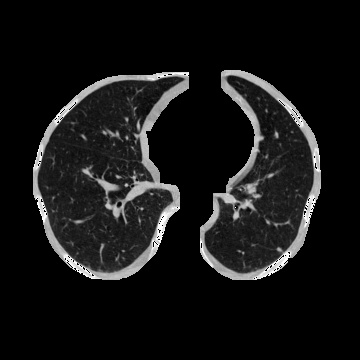PN: (277, 247, 281, 251)
